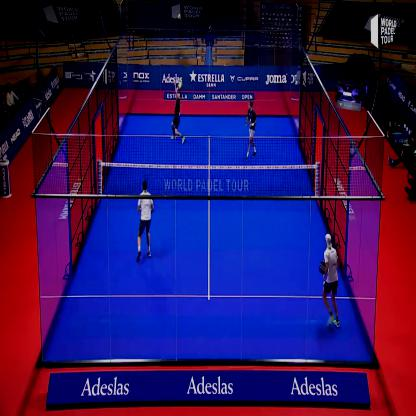ball: (176, 12, 182, 26)
